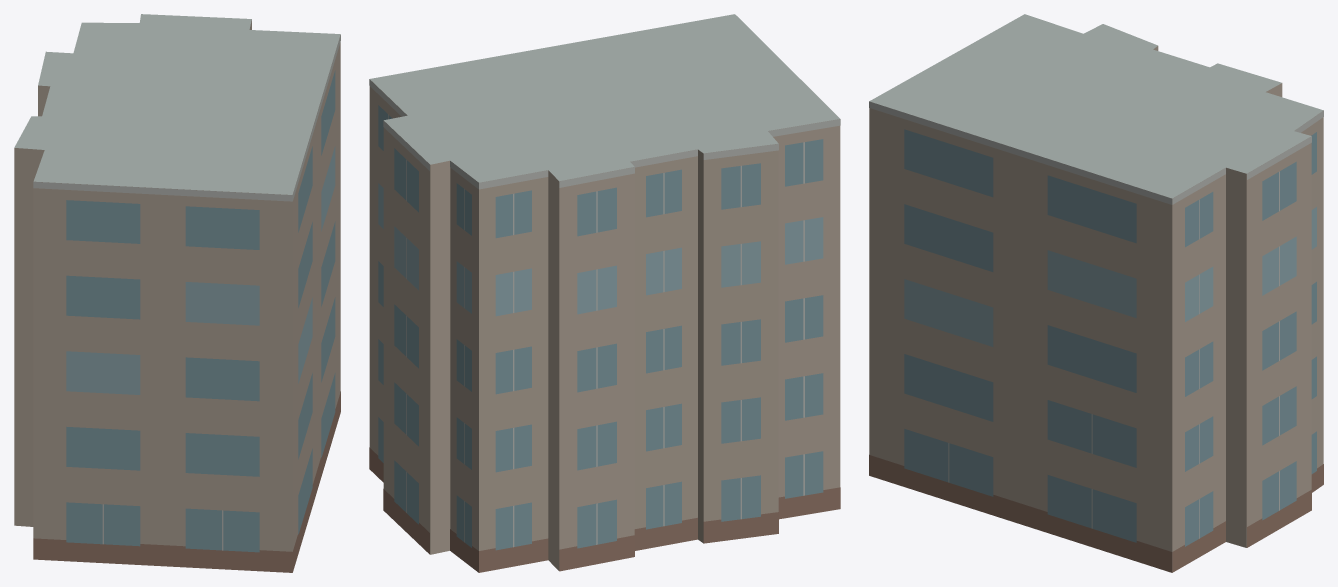
Rendered from survey-upis-32822910.glb.
3 renders of one model, left to right at view 1: azimuth 30°, elevation 25°; view 2: azimuth 150°, elevation 25°; view 3: azimuth 270°, elevation 25°, orthographic. The views are drawn at different scales.
Visible parts, largest first — view 1: survey-upis-32822910.tmp; view 2: survey-upis-32822910.tmp; view 3: survey-upis-32822910.tmp.
Part boxes in pixels (<box>): survey-upis-32822910.tmp: <box>14,14,340,572</box>; survey-upis-32822910.tmp: <box>369,14,840,572</box>; survey-upis-32822910.tmp: <box>869,14,1323,572</box>.
Bounding box in the file's own units: 14.86 × 14.05 × 15.47.
